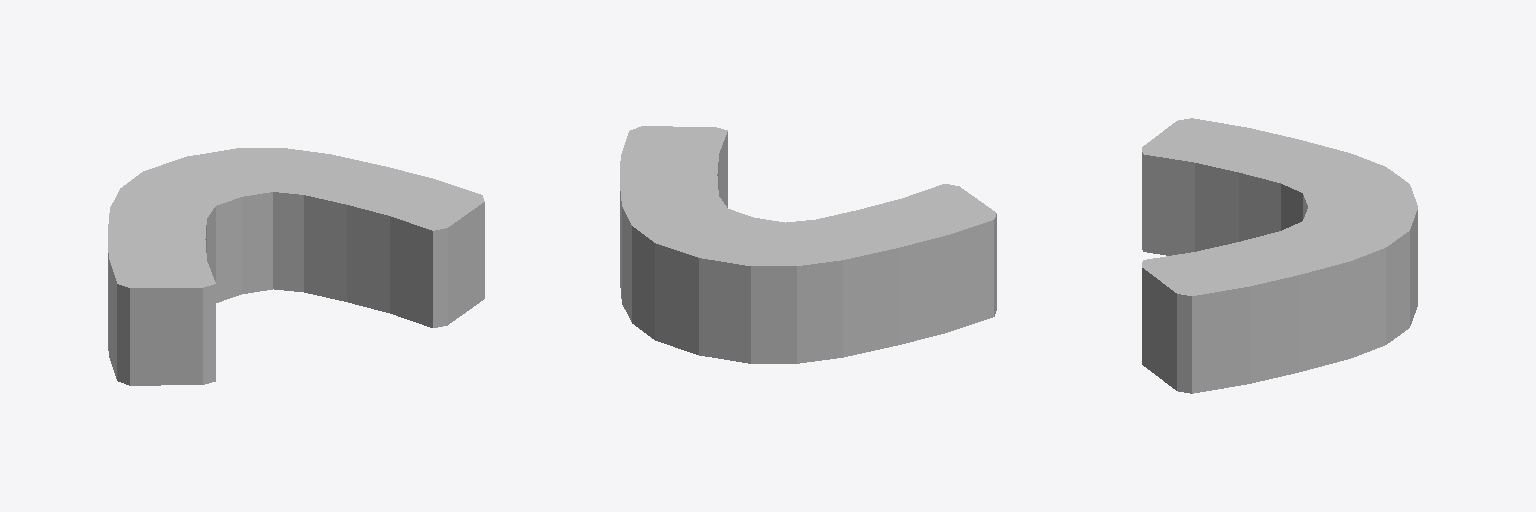
Rendered from zeepeye.obj.
3 renders of one model, left to right at view 1: azimuth 30°, elevation 25°; view 2: azimuth 150°, elevation 25°; view 3: azimuth 270°, elevation 25°, orthographic.
Parts seen in each view (by area): view 1: Vert; view 2: Vert; view 3: Vert.
Boxes of the visible parts, x1,y1,x2,y2 form: Vert: [108, 148, 484, 385]; Vert: [620, 126, 996, 363]; Vert: [1142, 118, 1417, 393].
Size of the model in its own units: 3.53 by 0.9 by 2.32.